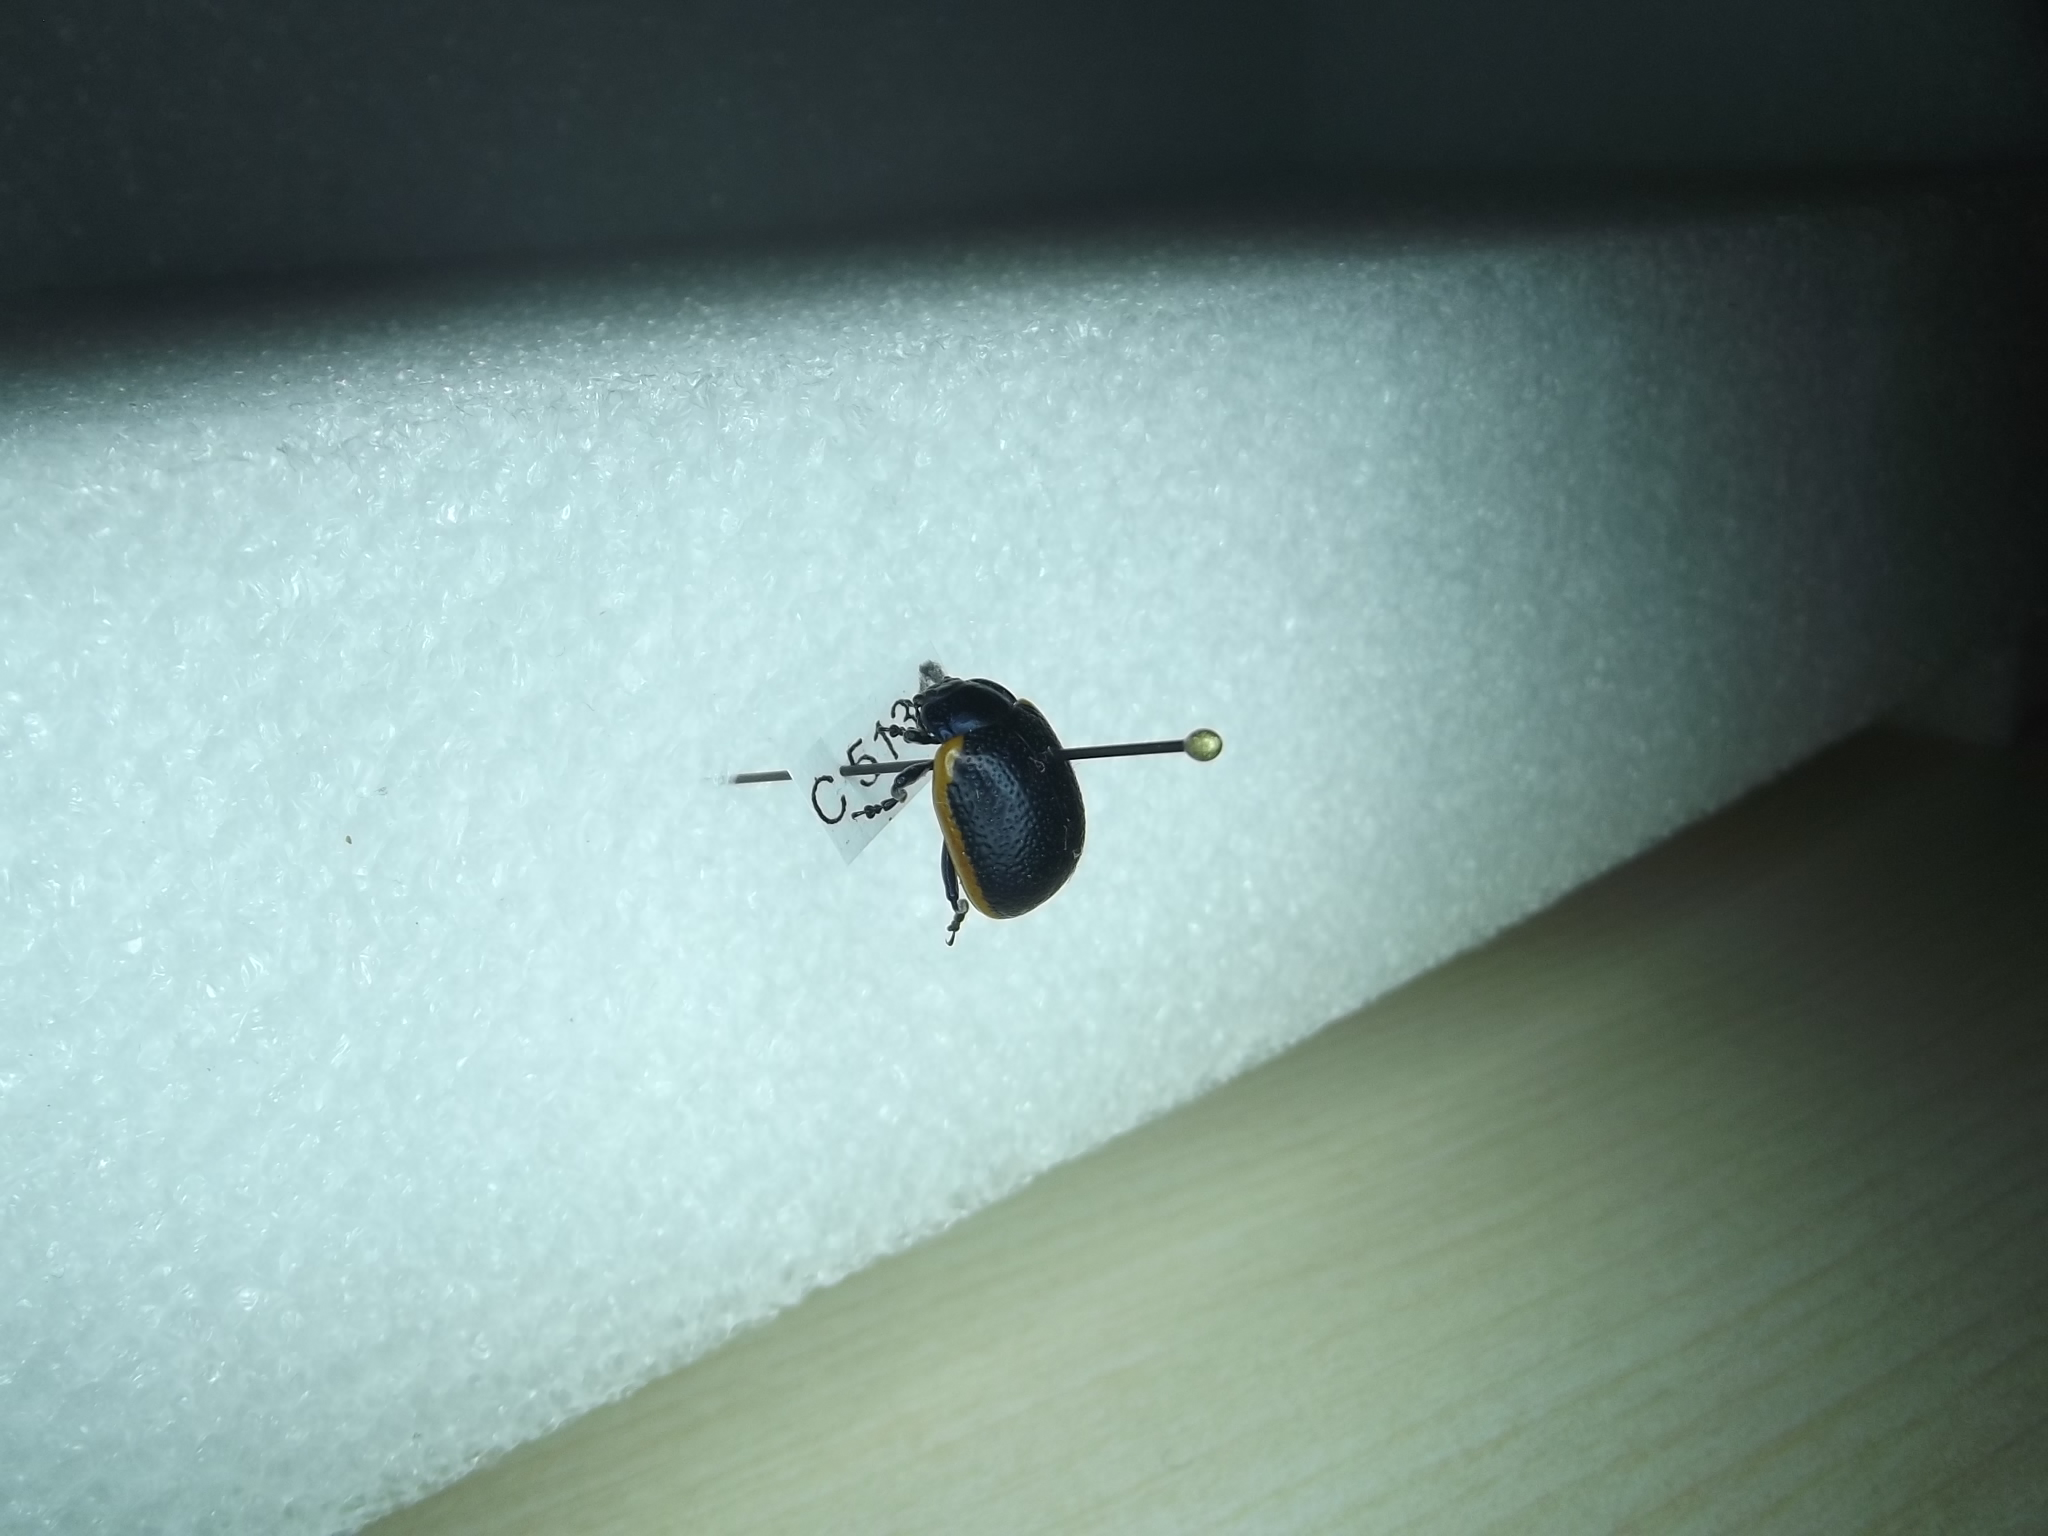Chrysolina_gypsophila: (856, 655, 1095, 955)
